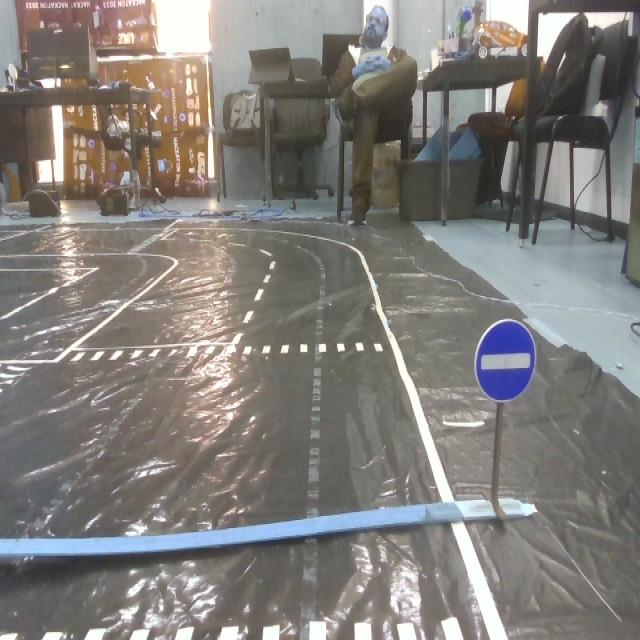dead_end: (470, 314, 544, 406)
